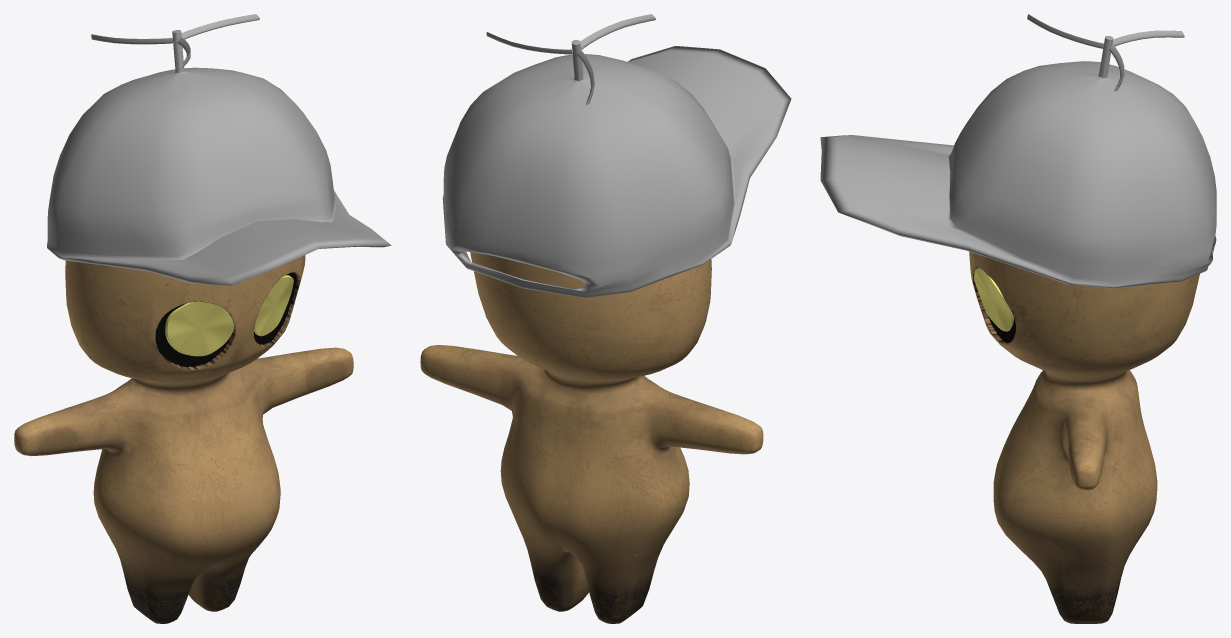
File: eudie.fbx
The picture shows the model from 3 angles, left to right: view 1: azimuth 30°, elevation 25°; view 2: azimuth 150°, elevation 25°; view 3: azimuth 270°, elevation 25°; orthographic projection.
Visible parts, largest first — view 1: luminite_body1, hat, eye4, eye3, blades; view 2: hat, luminite_body1, blades; view 3: hat, luminite_body1, blades, eye3.
Part boxes in pixels (x1,y1,x2,y2): luminite_body1: (14, 255, 353, 623); hat: (47, 30, 391, 285); eye4: (165, 301, 234, 356); eye3: (254, 275, 293, 336); blades: (91, 14, 259, 68); hat: (442, 40, 791, 298); luminite_body1: (420, 252, 763, 623); blades: (486, 14, 655, 104); hat: (820, 36, 1216, 288); luminite_body1: (969, 251, 1199, 623); blades: (1027, 14, 1184, 91); eye3: (974, 268, 1013, 331).
Bounding box in the file's own units: 80.65 × 133 × 82.48.
